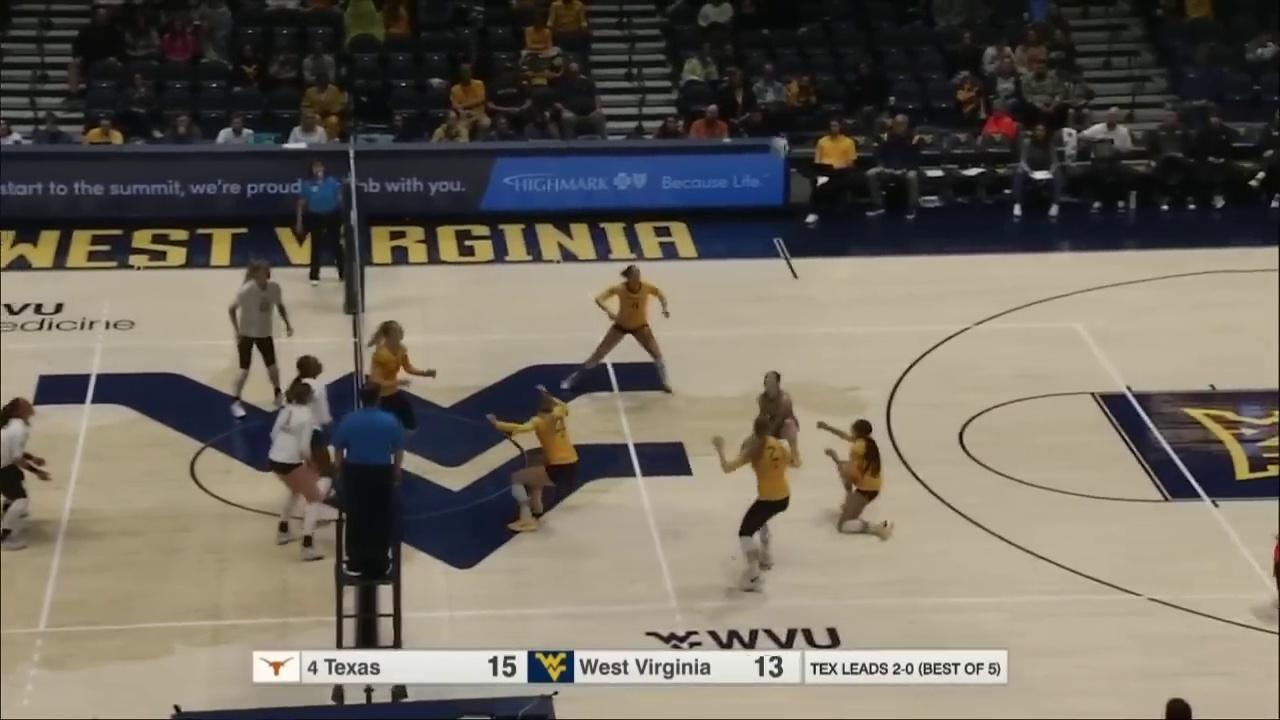player: (559, 260, 677, 395), (716, 419, 795, 597), (493, 386, 580, 528), (360, 313, 433, 473), (224, 257, 293, 417), (266, 382, 325, 564), (276, 350, 337, 522), (822, 415, 893, 540), (0, 395, 53, 546), (737, 371, 802, 470)
refree: (335, 382, 405, 574), (296, 162, 352, 290)
